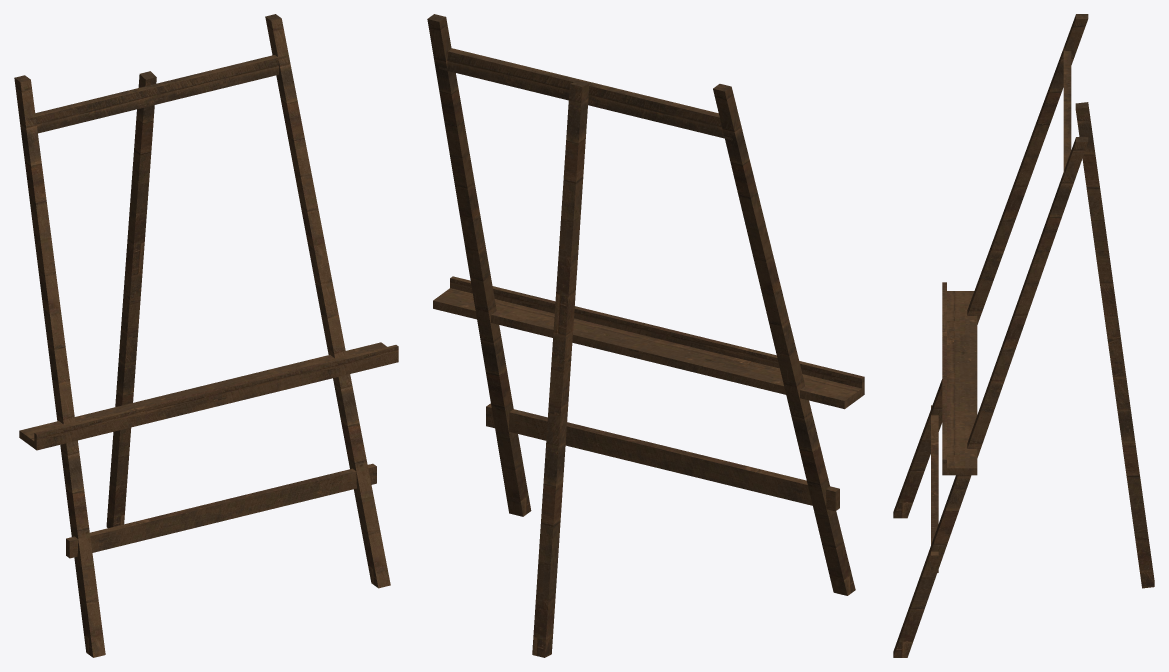
The model's file is easel.glb.
3 renders of one model, left to right at view 1: azimuth 30°, elevation 25°; view 2: azimuth 150°, elevation 25°; view 3: azimuth 270°, elevation 25°, orthographic. The views are drawn at different scales.
Parts seen in each view (by area): view 1: easel; view 2: easel; view 3: easel.
Part boxes in pixels (x1=…): easel: x1=14, y1=14, x2=398, y2=657; easel: x1=427, y1=14, x2=864, y2=657; easel: x1=893, y1=14, x2=1154, y2=657.
Size of the model in its own units: 1.32 by 1.76 by 0.8223.
1 material, 1 textured.
